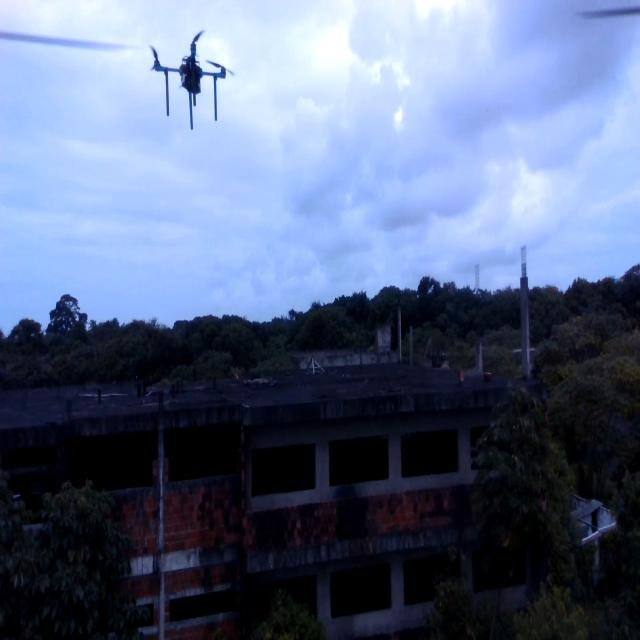-uav-: (138, 18, 242, 145)
